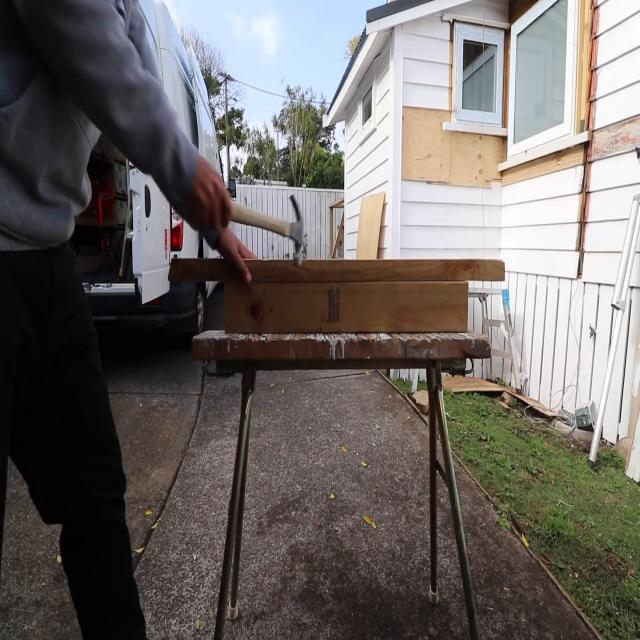hammer: (215, 182, 307, 272)
